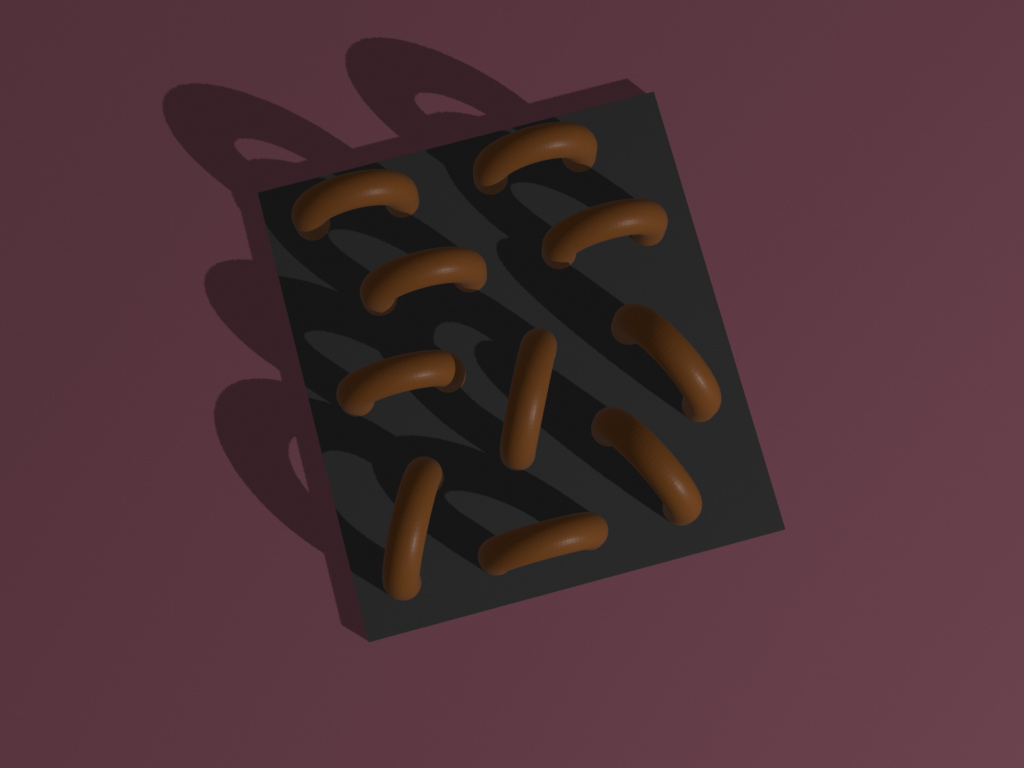return-bend: (587, 276, 753, 444), (568, 377, 733, 545), (310, 325, 489, 443), (329, 221, 508, 339), (261, 146, 440, 264), (452, 483, 631, 600), (516, 170, 695, 287), (446, 95, 625, 212), (364, 438, 466, 614), (475, 309, 576, 485)
